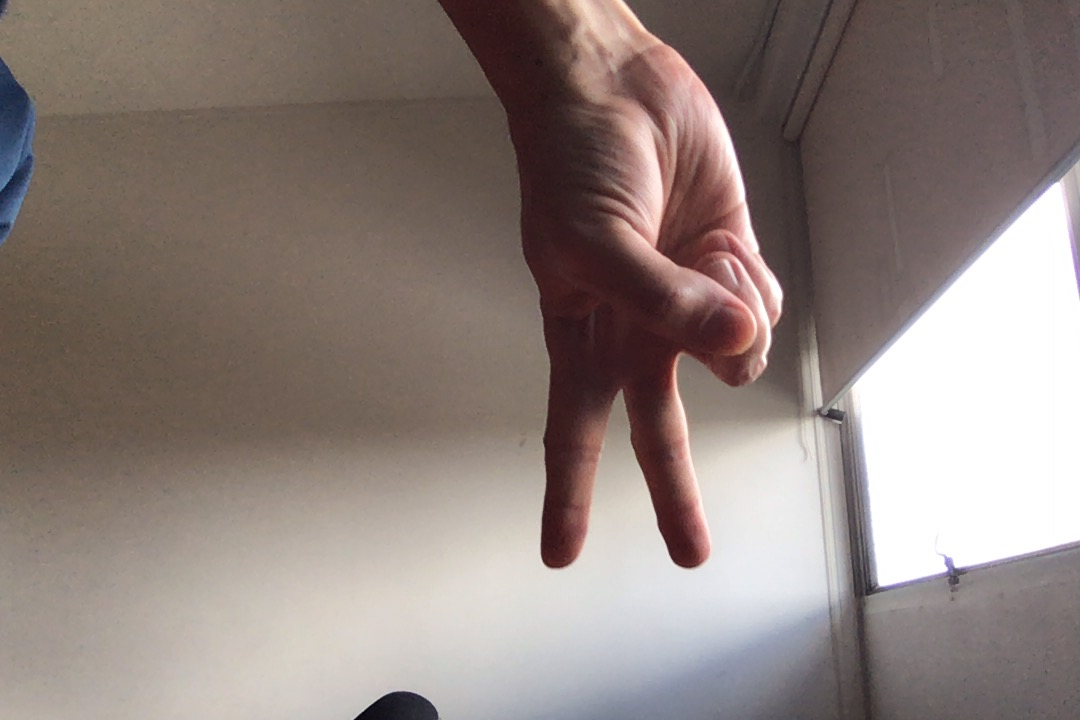peacesign: (486, 80, 788, 580)
